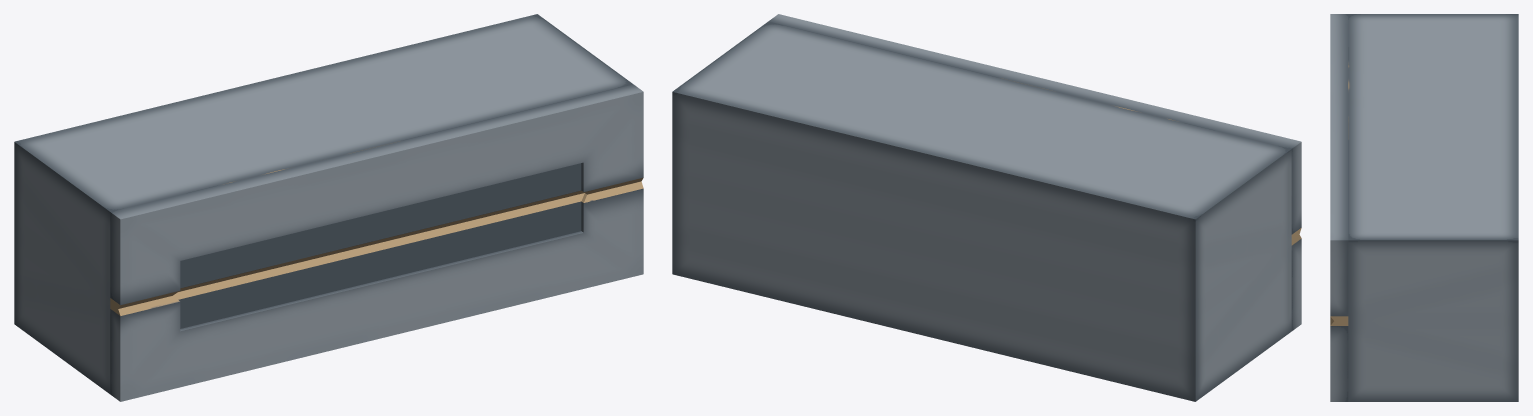
File: RotalyMater_Box.fbx
The picture shows the model from 3 angles, left to right: view 1: azimuth 30°, elevation 25°; view 2: azimuth 150°, elevation 25°; view 3: azimuth 270°, elevation 25°; orthographic projection. The views are drawn at different scales.
Parts seen in each view (by area): view 1: Box; view 2: Box; view 3: Box.
Part boxes in pixels (left/top/right/bottom): Box: left=14, top=14, right=643, bottom=401; Box: left=672, top=14, right=1301, bottom=401; Box: left=1330, top=14, right=1518, bottom=401.
Bounding box in the file's own units: 30 × 10 × 10.55.
